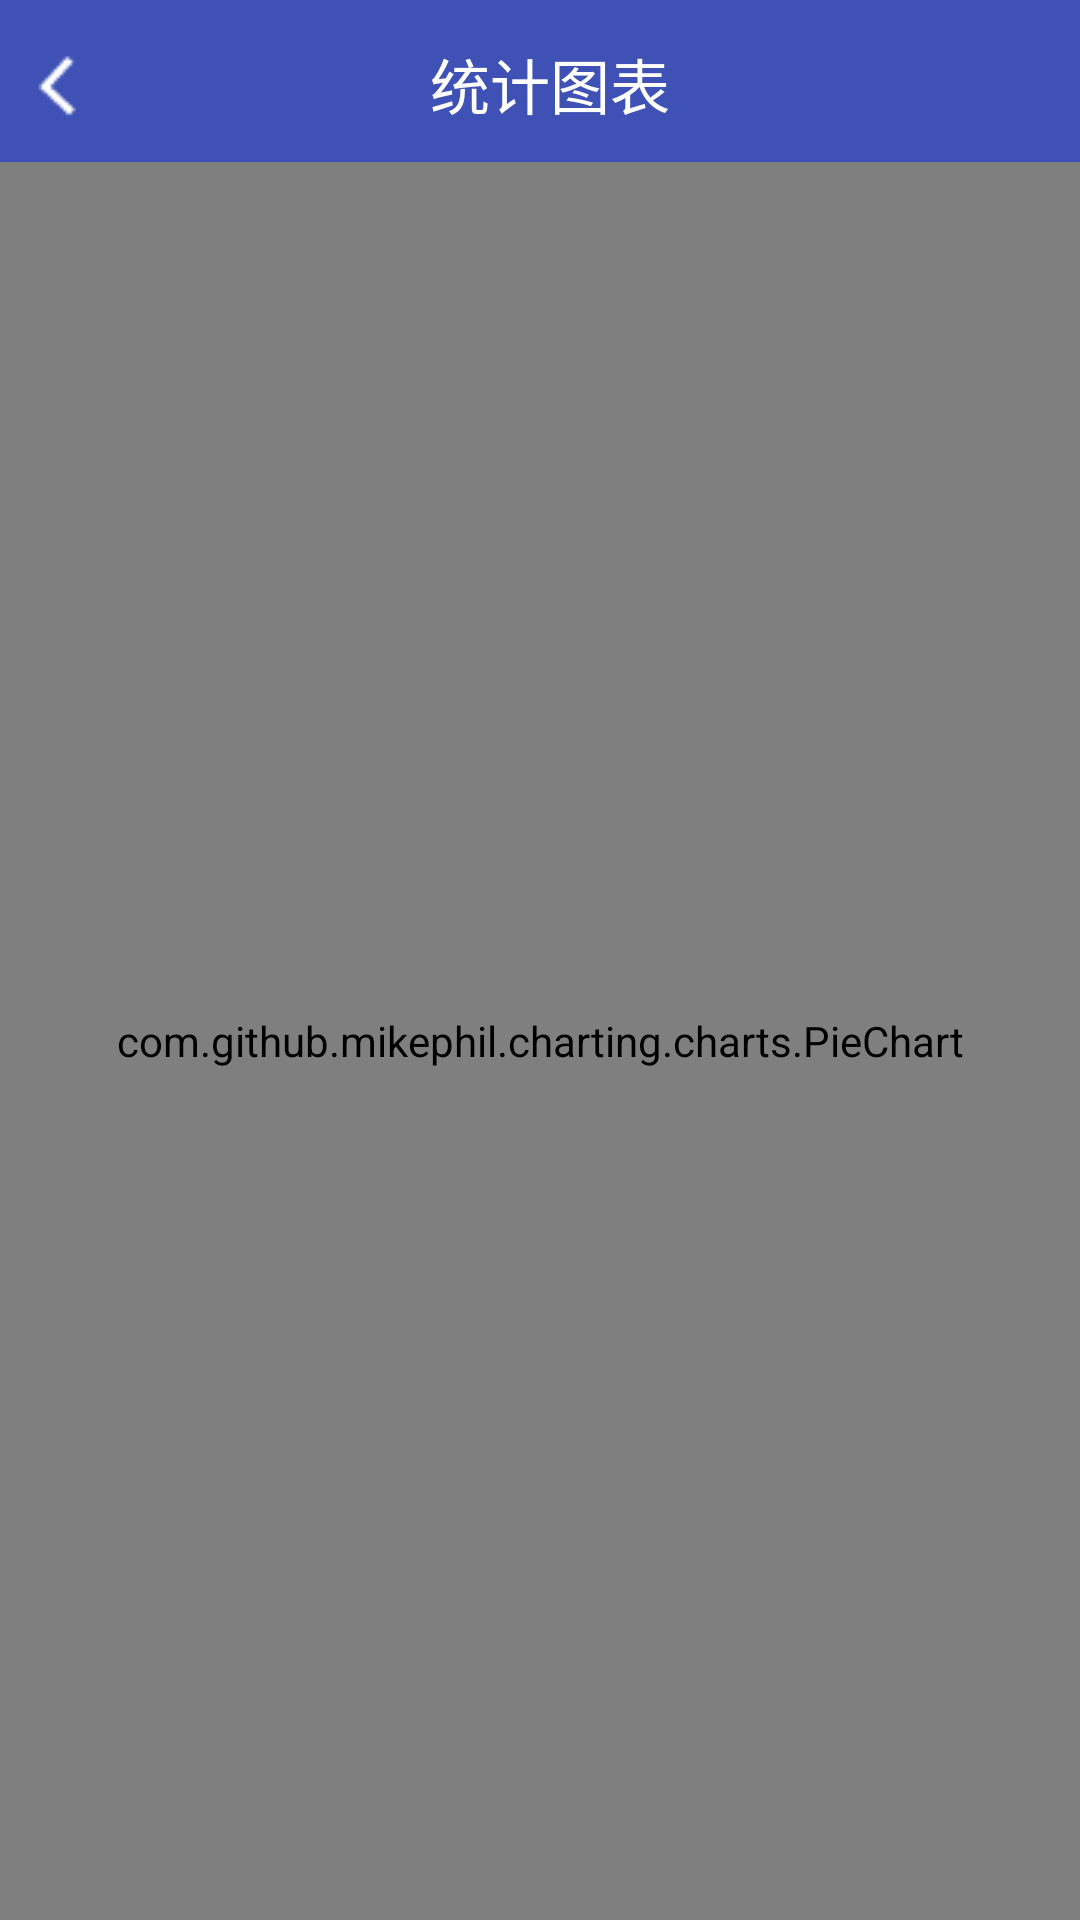

Where icons sit on this 1080px x 1920px app screen, as (x1,y1,x2,y2):
back: (39,56,76,115)
